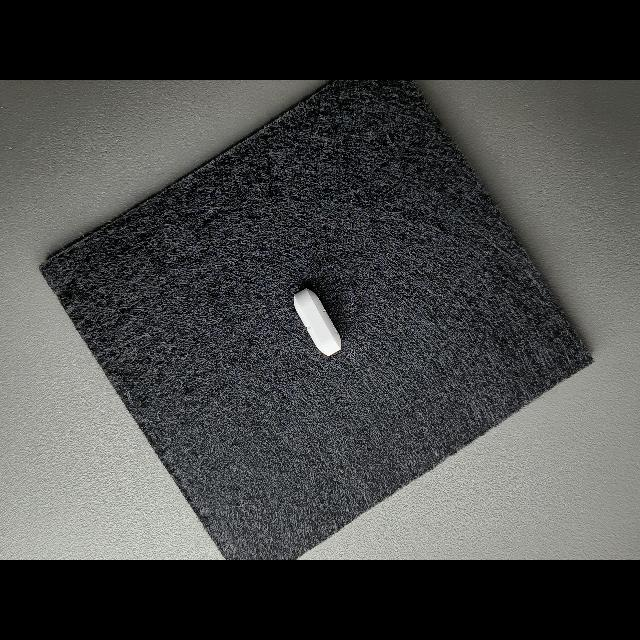Intact Pill: (294, 288, 342, 356)
